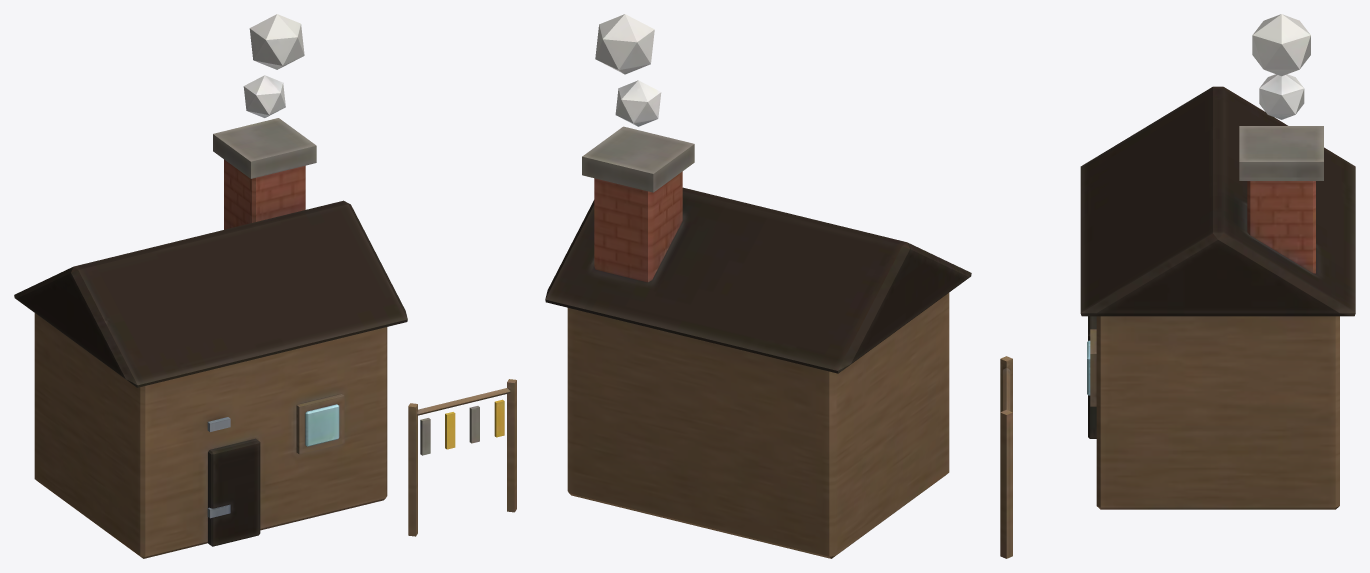
The model's file is smokehouse-2-age10.glb.
3 renders of one model, left to right at view 1: azimuth 30°, elevation 25°; view 2: azimuth 150°, elevation 25°; view 3: azimuth 270°, elevation 25°, orthographic. The views are drawn at different scales.
Parts seen in each view (by area): view 1: smokehouse-2-age10; view 2: smokehouse-2-age10; view 3: smokehouse-2-age10.
Part boxes in pixels (<box>): smokehouse-2-age10: <box>14,14,516,558</box>; smokehouse-2-age10: <box>545,14,971,558</box>; smokehouse-2-age10: <box>1000,14,1355,558</box>.
Size of the model in its own units: 0.852 by 1 by 0.672.
1 material, 1 textured.
